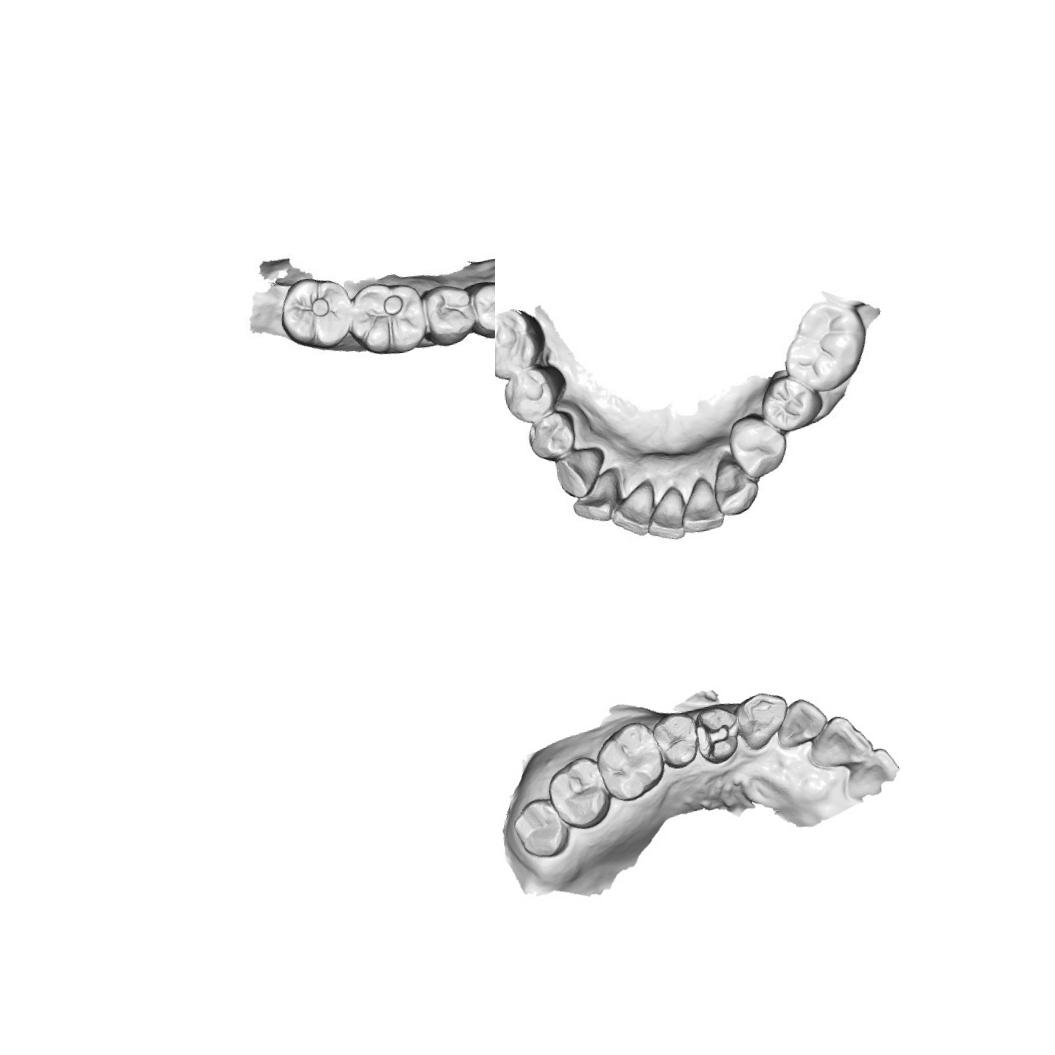canine: (734, 687, 794, 753), (551, 446, 610, 501), (710, 456, 761, 519)
incisor: (802, 708, 878, 772), (840, 742, 904, 801), (772, 694, 832, 752), (567, 470, 625, 526), (676, 477, 726, 538), (605, 483, 657, 540), (643, 486, 690, 546)
inlay: (692, 716, 738, 764)
molar: (775, 294, 874, 396), (589, 717, 668, 805), (543, 750, 616, 836), (348, 277, 428, 355), (278, 274, 355, 348), (509, 792, 573, 864), (495, 304, 543, 380)
premolar: (497, 358, 570, 426), (725, 411, 792, 484), (754, 369, 823, 435), (648, 706, 700, 772), (424, 287, 481, 347), (521, 410, 581, 464), (473, 279, 495, 334)
